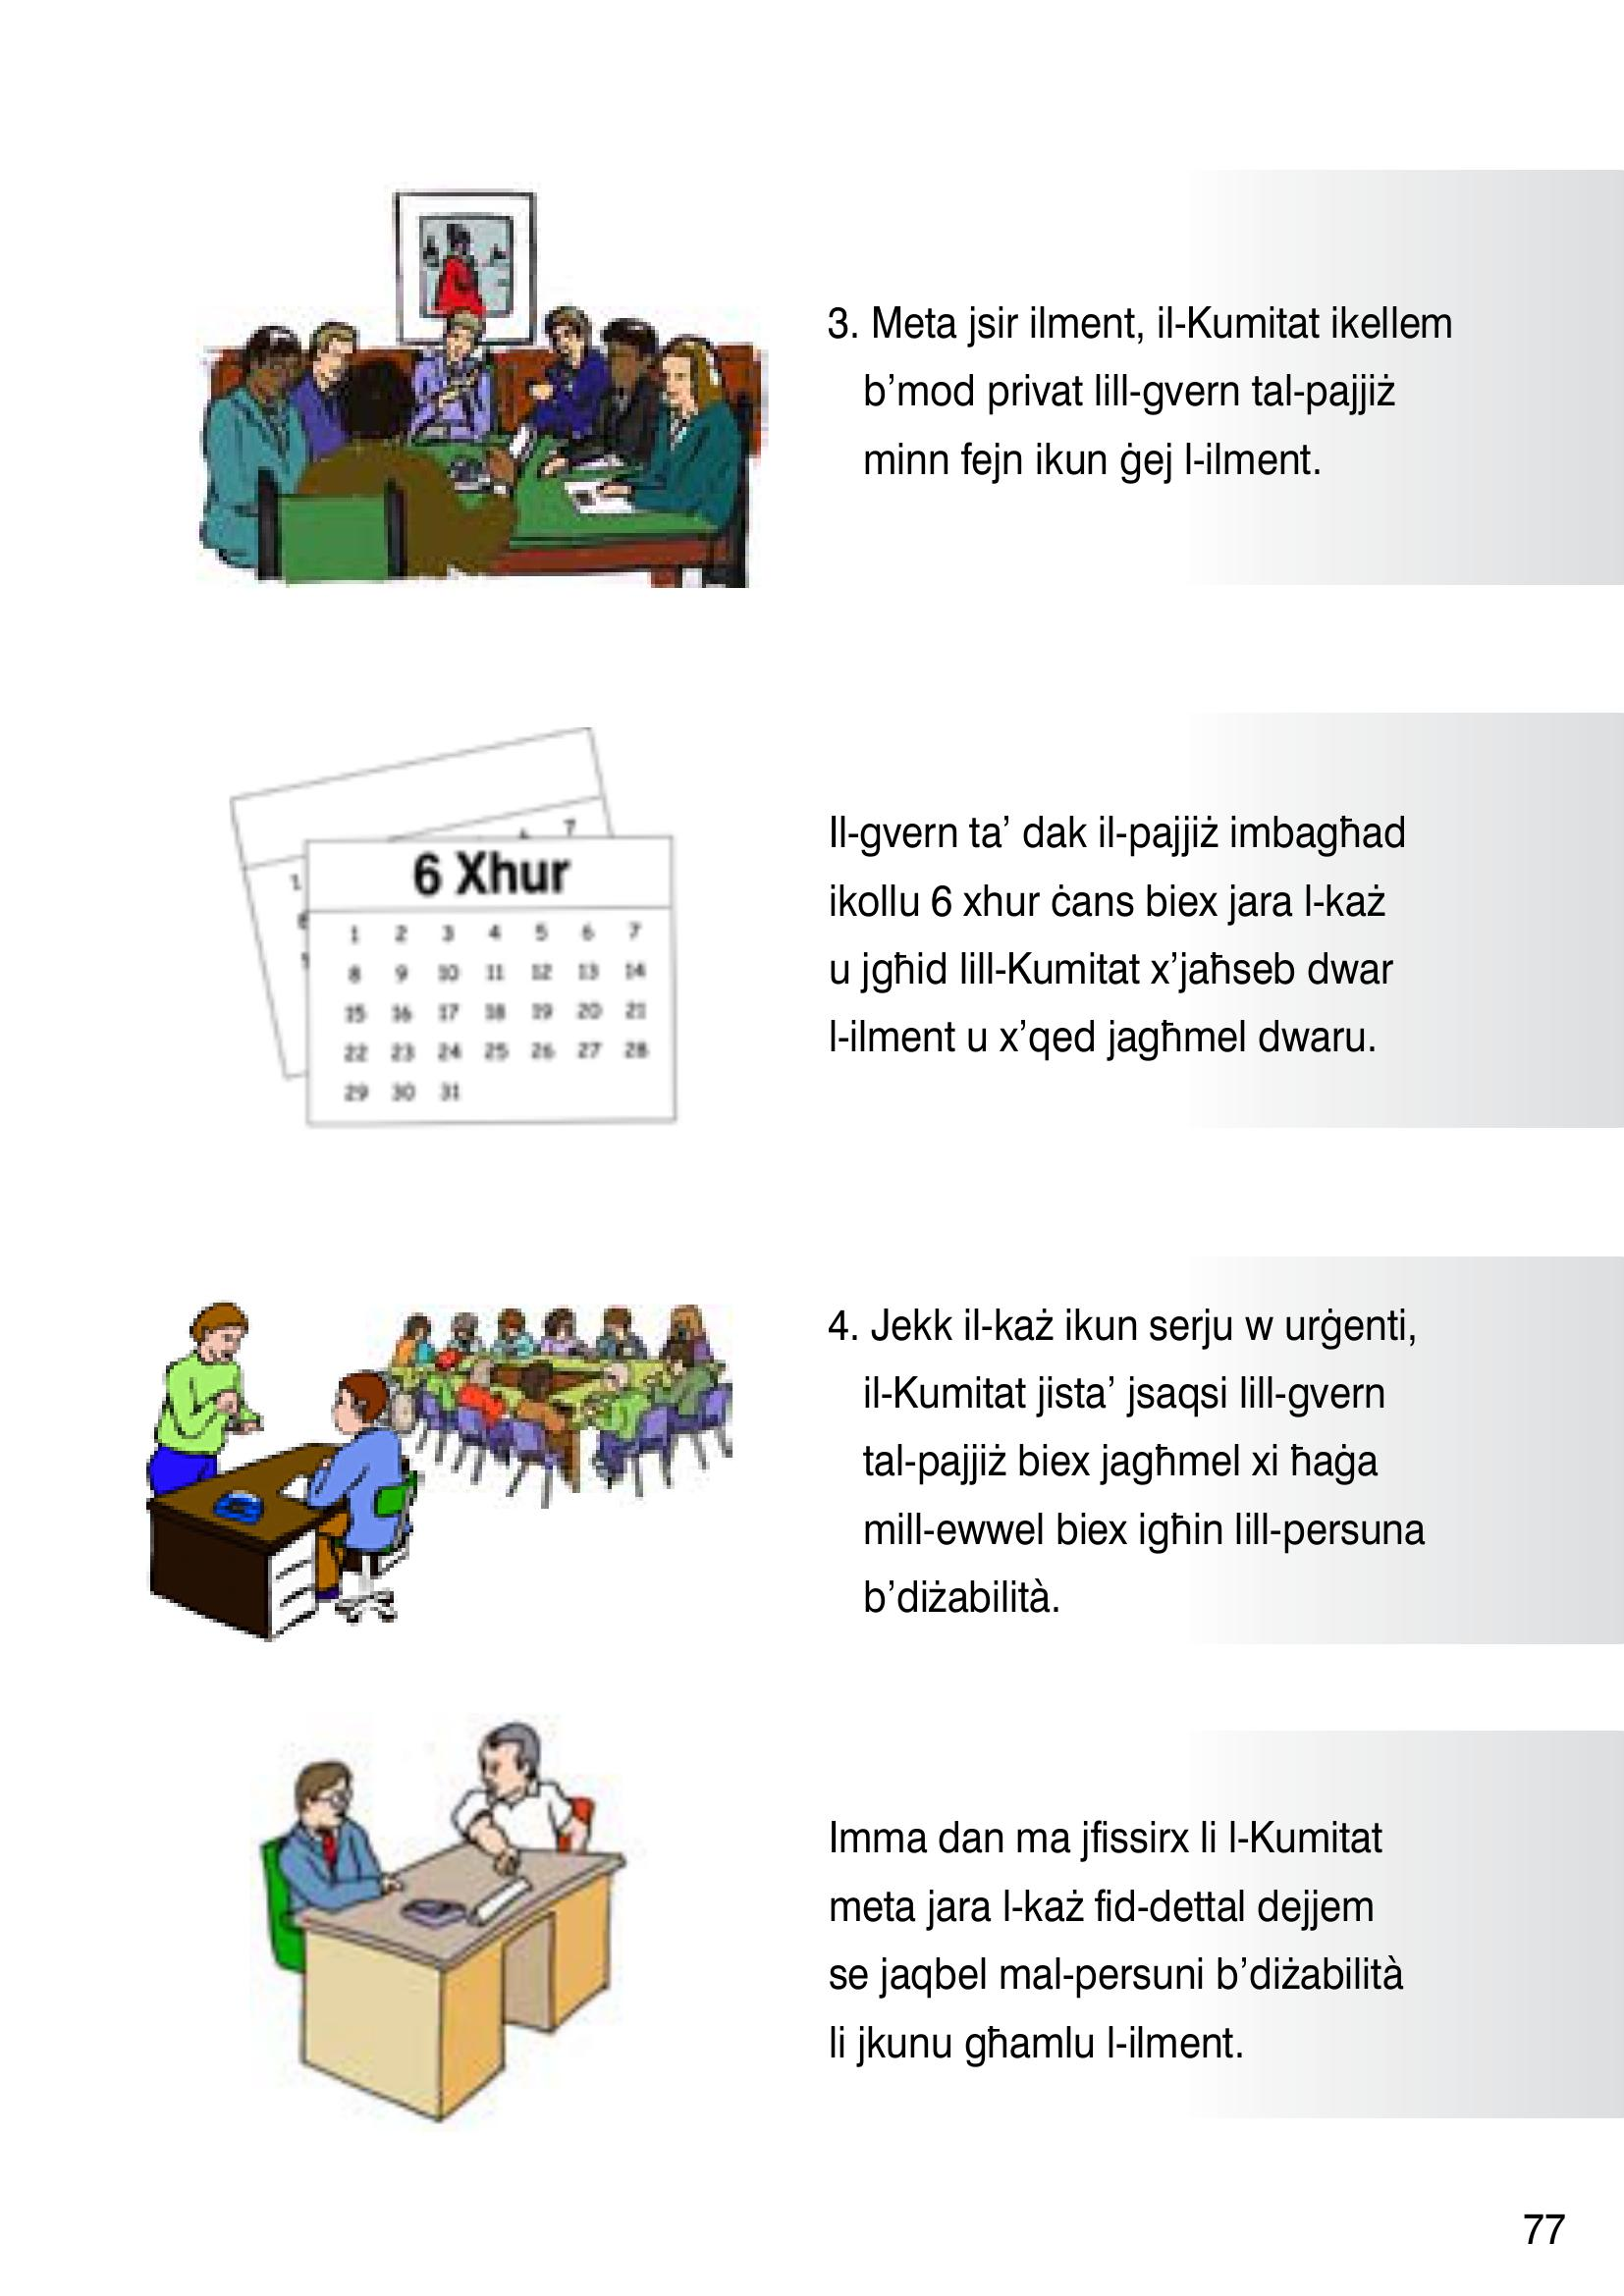text: (796, 286, 1497, 2082)
